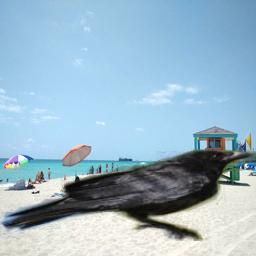Crow: (0, 148, 256, 241)
